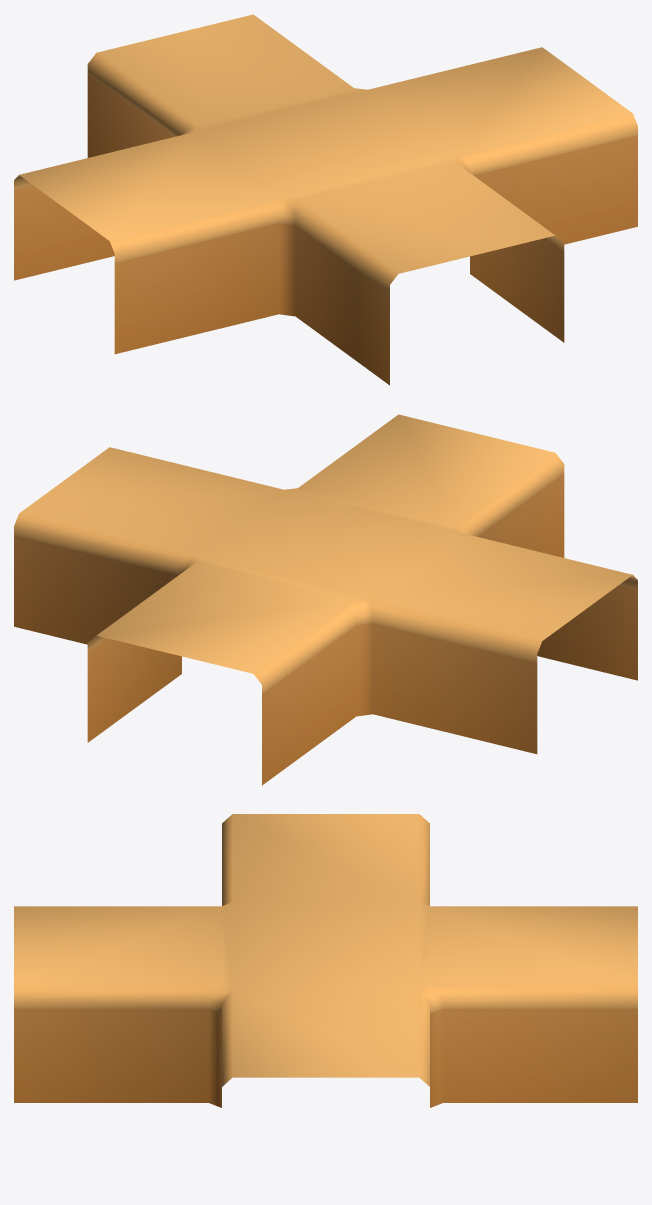
File: Cross Junction 01.FBX
3 renders of one model, top to bottom at view 1: azimuth 30°, elevation 25°; view 2: azimuth 150°, elevation 25°; view 3: azimuth 270°, elevation 25°, orthographic. The views are drawn at different scales.
Visible parts, largest first — view 1: Cross Junction 01; view 2: Cross Junction 01; view 3: Cross Junction 01.
Part boxes in pixels (x1,y1,x2,y2): Cross Junction 01: [14, 14, 637, 385]; Cross Junction 01: [14, 414, 637, 785]; Cross Junction 01: [14, 814, 637, 1107].
Bounding box in the file's own units: 1500 × 300 × 1500.
1 material, 1 textured.
